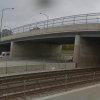Bridge: (5, 7, 100, 51)
